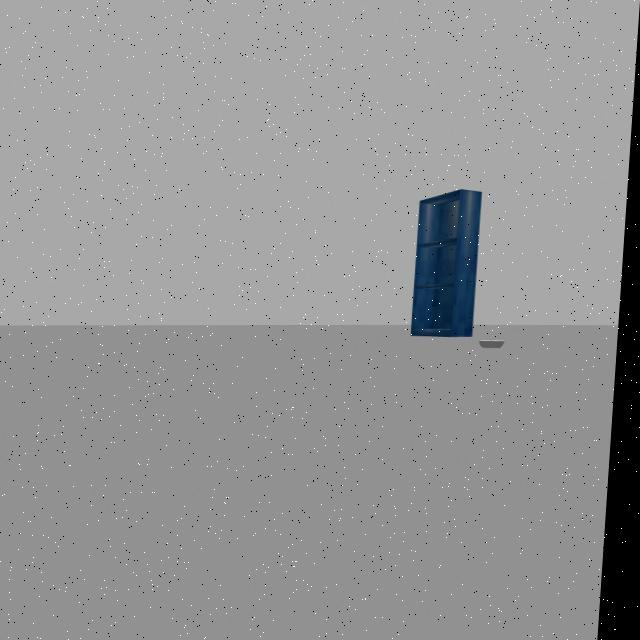bowl: (480, 331, 521, 358)
shelf: (408, 180, 489, 346)
